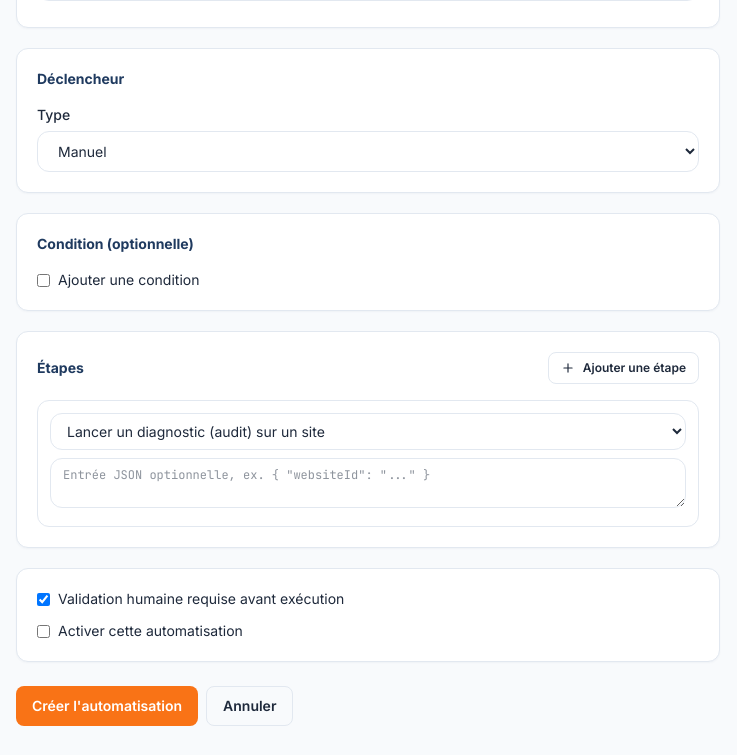
it: PageOpsAutomationForm — create › requires a name before submitting
The image size is (737, 755).
(page scrolled)
Click the button "Créer l'automatisation": [107, 706] box [16,686,198,726]
(page scrolled)
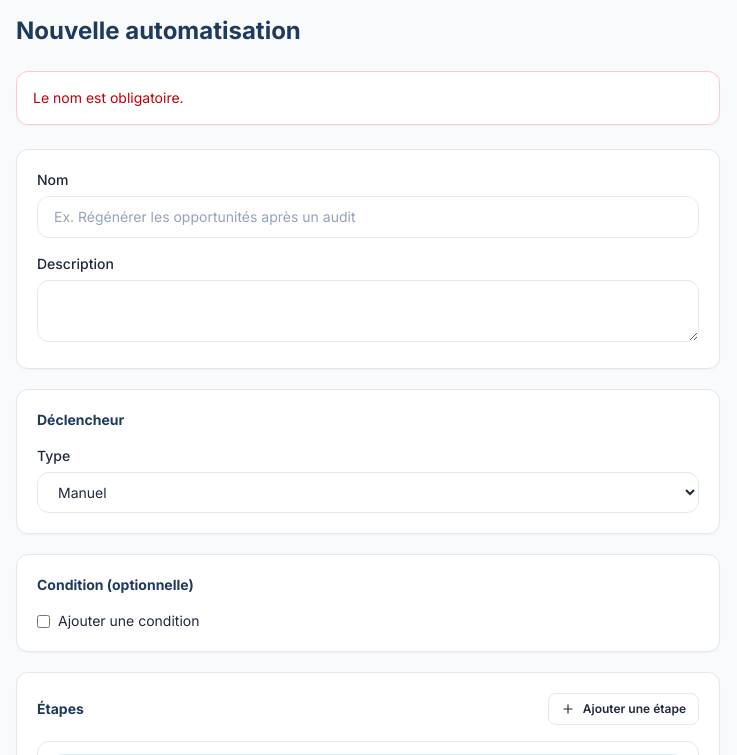
Expected: the text "Le nom est obligatoire." is shown, [16,71,720,125]
